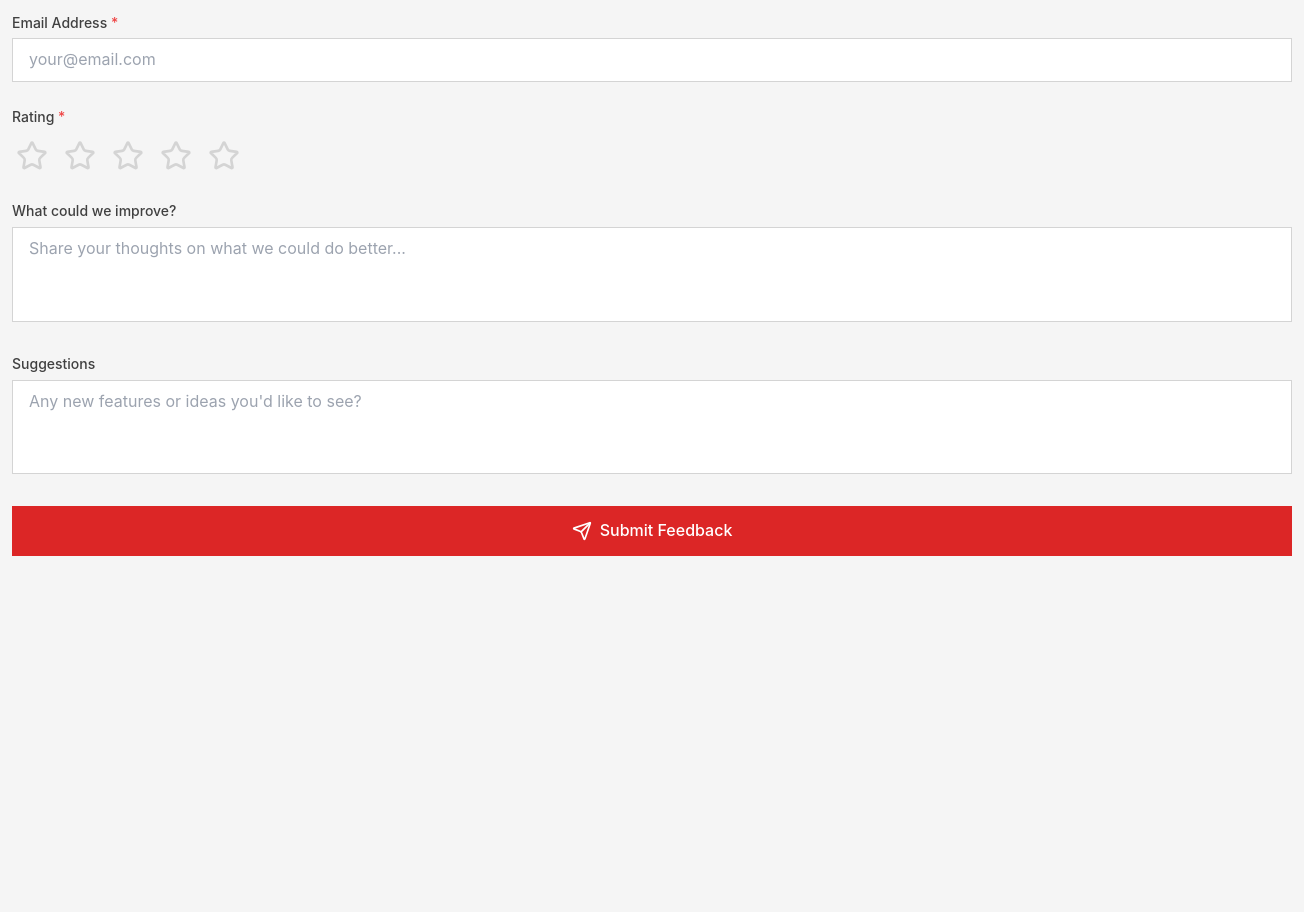
Scenario: PublicFeedbackForm › shows validation error when email is empty
The image size is (1304, 912).
Click the 3rd button at (128, 156), box [108,136,148,176]
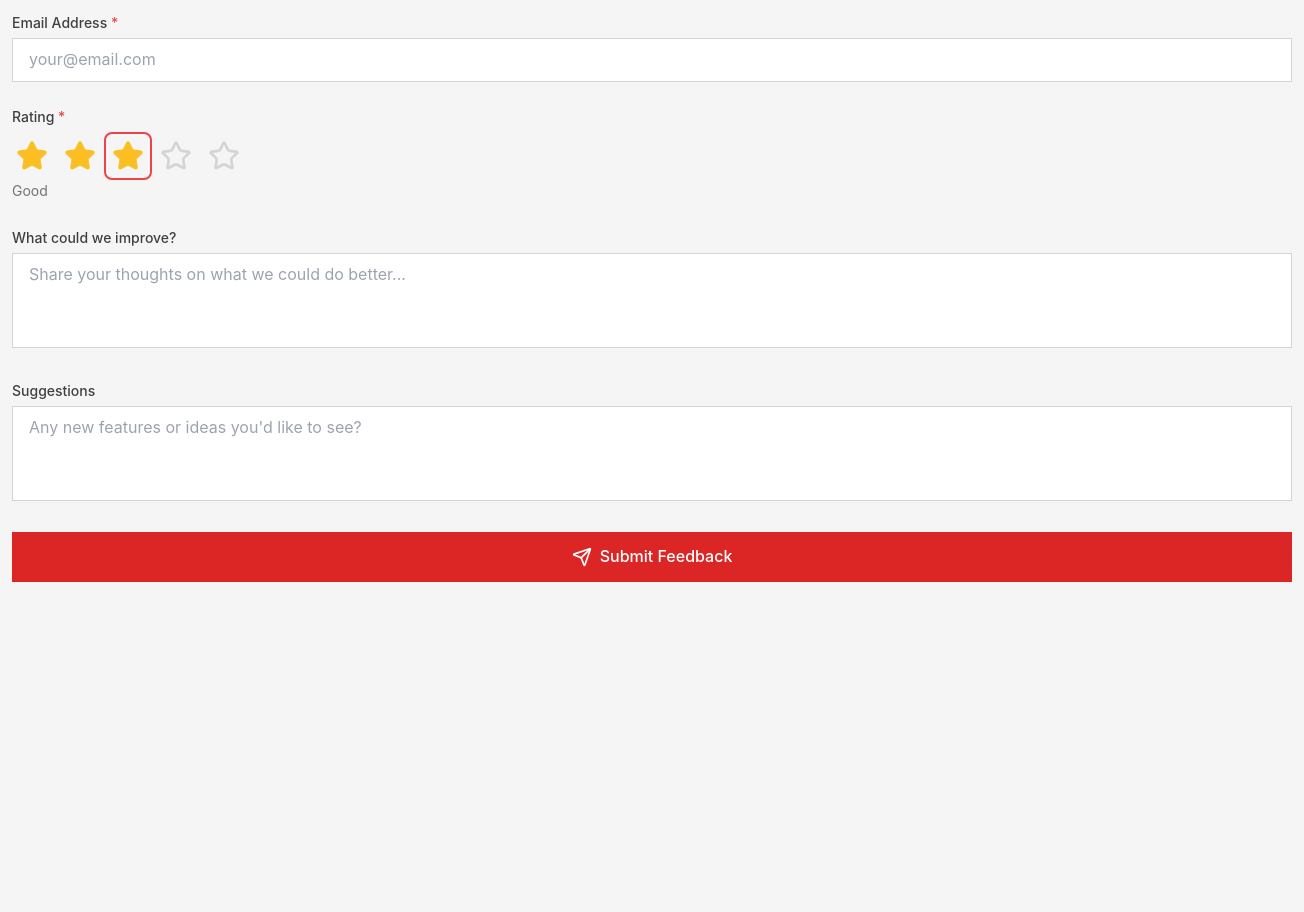
Click the button "Submit Feedback" at (652, 557), box [12,532,1292,582]
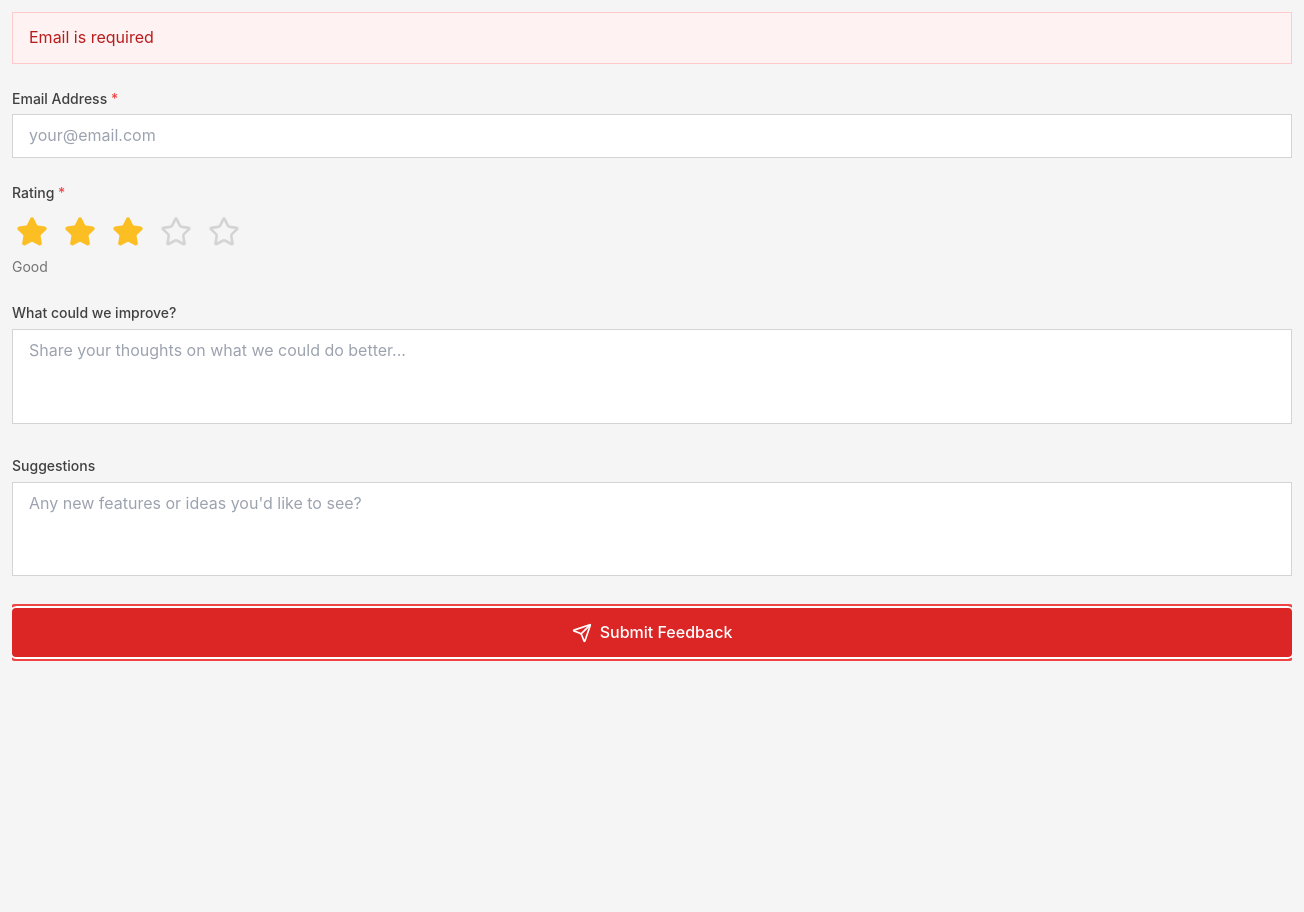
Check: the text "Email is required" is shown, box [12,12,1292,64]
